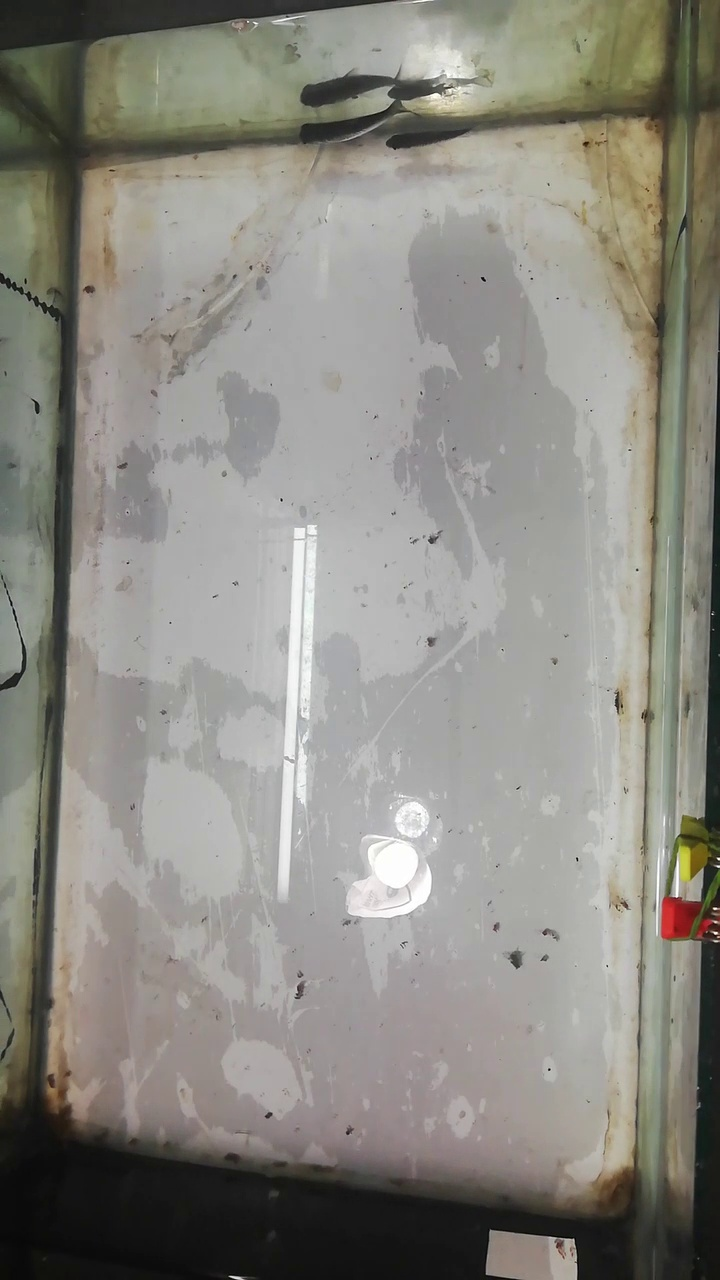fish1: (301, 107, 410, 142)
fish2: (384, 125, 474, 148)
